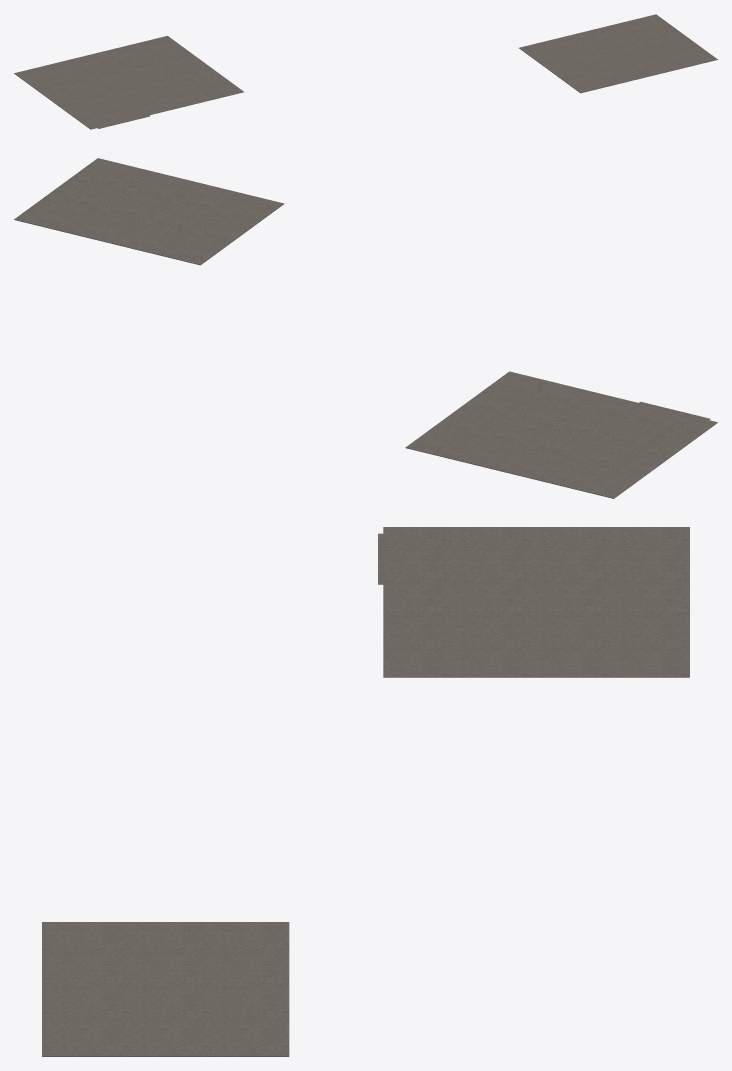
File: baking_28.glb
3 renders of one model, top to bottom at view 1: azimuth 30°, elevation 25°; view 2: azimuth 150°, elevation 25°; view 3: azimuth 270°, elevation 25°, orthographic. The views are drawn at different scales.
Parts seen in each view (by area): view 1: StaticMeshActor_106; view 2: StaticMeshActor_106; view 3: StaticMeshActor_106.
Part boxes in pixels (box(x1,y1,x2,y2)): StaticMeshActor_106: box(14, 14, 717, 129); StaticMeshActor_106: box(14, 158, 717, 498); StaticMeshActor_106: box(42, 527, 689, 1056).
Bounding box in the file's own units: 15.68 × 0.01 × 8.11.
1 material, 1 textured.
